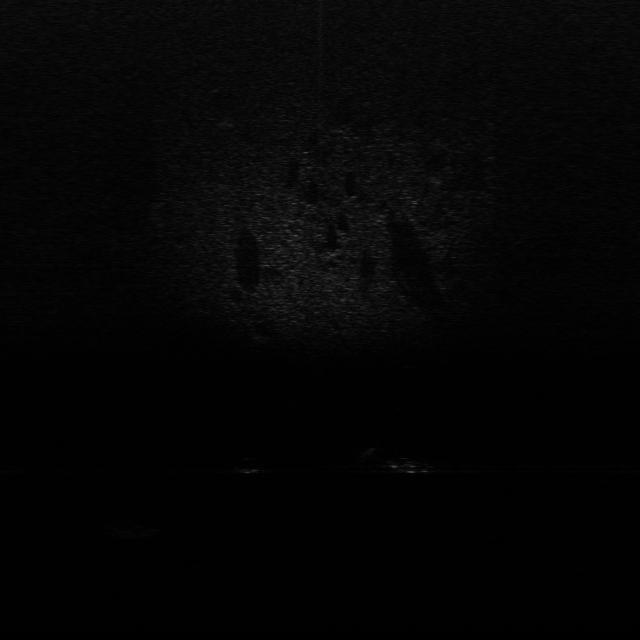ball: (230, 455, 270, 480)
circle cage: (92, 512, 164, 544)
human body: (354, 443, 450, 482)
